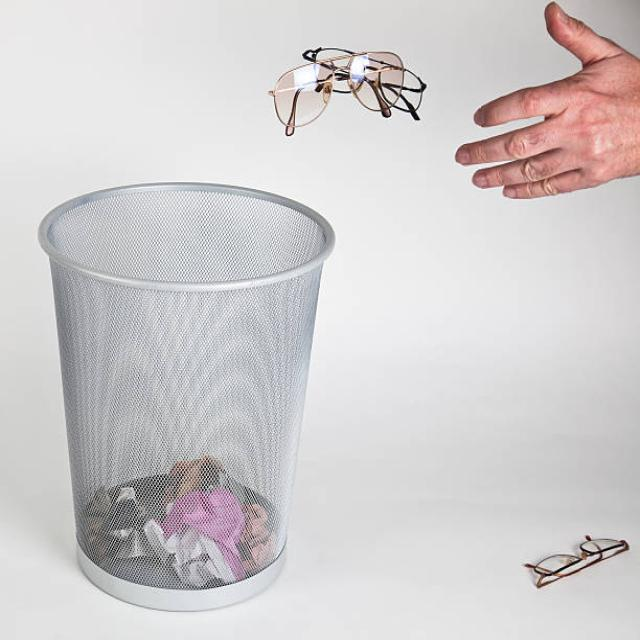metal: (80, 471, 264, 577), (274, 59, 425, 132)
paper: (80, 473, 272, 578)
